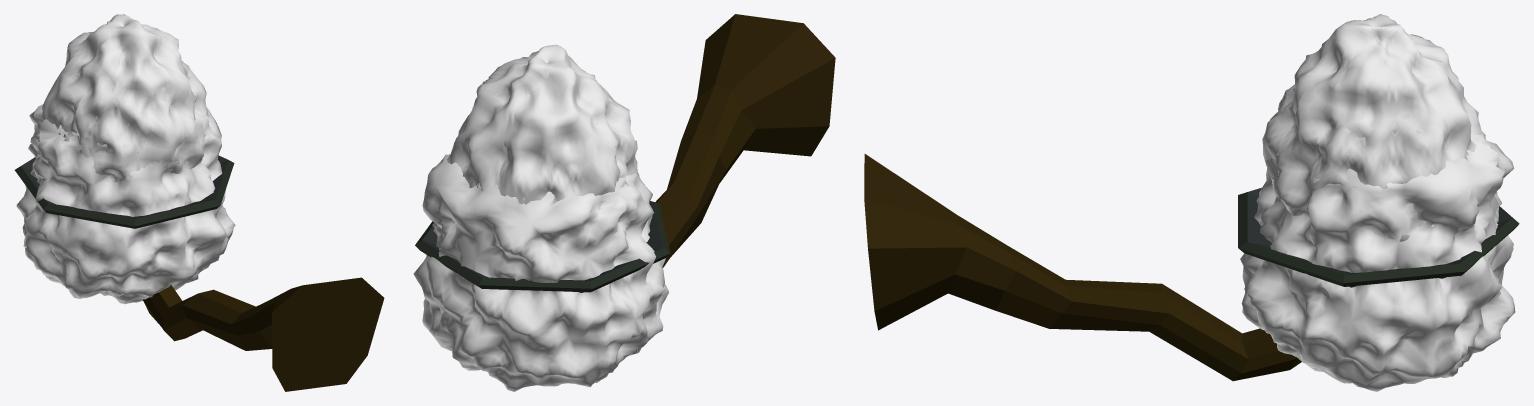
The model's file is Torcia_Mago (1).fbx.
3 renders of one model, left to right at view 1: azimuth 30°, elevation 25°; view 2: azimuth 150°, elevation 25°; view 3: azimuth 270°, elevation 25°, orthographic. The views are drawn at different scales.
Visible parts, largest first — view 1: FiammaBianca.Sotto, Fiaccola_Mago, FiammaGialla, FiammaBianca; view 2: FiammaBianca.Sotto, Fiaccola_Mago, FiammaGialla; view 3: FiammaBianca.Sotto, Fiaccola_Mago, FiammaGialla, FiammaBianca.
Part boxes in pixels (x1,y1,x2,y2): FiammaBianca.Sotto: [16, 104, 235, 304]; Fiaccola_Mago: [14, 155, 384, 391]; FiammaGialla: [42, 14, 208, 186]; FiammaBianca: [61, 33, 191, 161]; FiammaBianca.Sotto: [413, 154, 668, 391]; Fiaccola_Mago: [415, 14, 835, 292]; FiammaGialla: [447, 44, 639, 221]; FiammaBianca.Sotto: [1240, 131, 1515, 391]; Fiaccola_Mago: [864, 154, 1519, 381]; FiammaGialla: [1262, 14, 1481, 248]; FiammaBianca: [1272, 36, 1448, 229].
Size of the model in its own units: 885 by 1238 by 2057.
